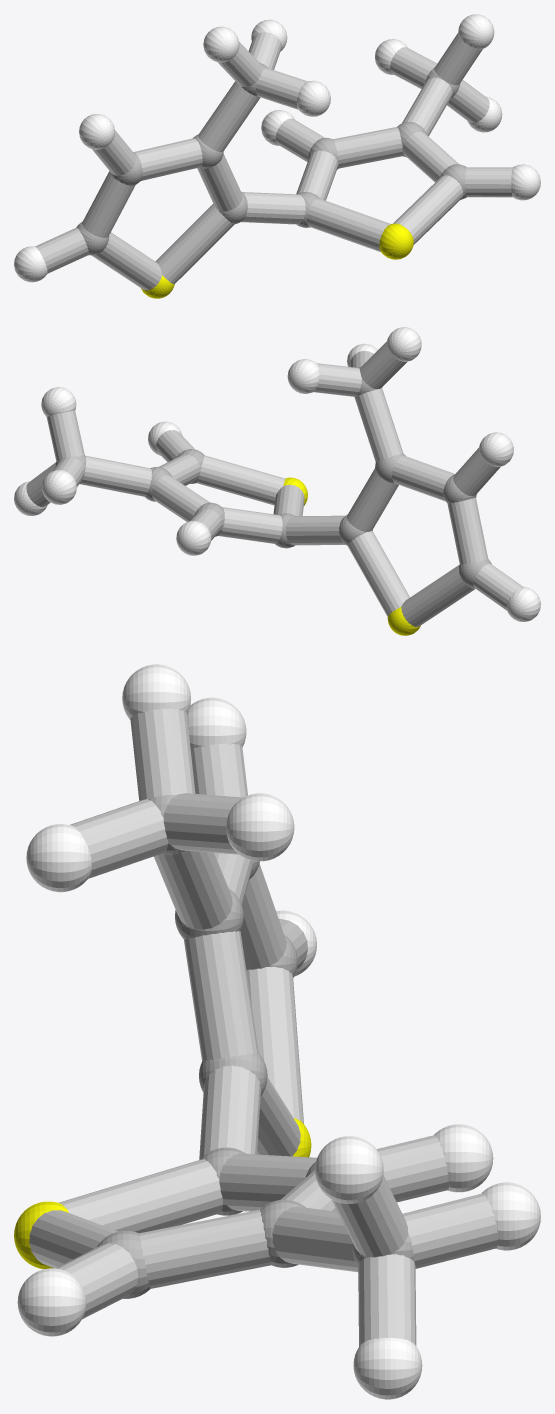
Rendered from Methylthiophene_Phi_25_Theta_90_Methylthiophene.glb.
3 renders of one model, top to bottom at view 1: azimuth 30°, elevation 25°; view 2: azimuth 150°, elevation 25°; view 3: azimuth 270°, elevation 25°, orthographic. The views are drawn at different scales.
Visible parts, largest first — view 1: grp7965, grp3621, grp1, grp7241; view 2: grp7965, grp3621, grp1, grp7241; view 3: grp7965, grp3621, grp1, grp7241.
Boxes of the visible parts, x1=… form: grp7965: x1=35, y1=32, x2=512, y2=290; grp3621: x1=14, y1=14, x2=540, y2=282; grp1: x1=76, y1=62, x2=466, y2=255; grp7241: x1=141, y1=223, x2=413, y2=298; grp7965: x1=26, y1=341, x2=523, y2=626; grp3621: x1=14, y1=327, x2=540, y2=621; grp1: x1=55, y1=366, x2=491, y2=588; grp7241: x1=283, y1=477, x2=420, y2=635; grp7965: x1=29, y1=708, x2=498, y2=1346; grp3621: x1=17, y1=664, x2=540, y2=1399; grp1: x1=97, y1=795, x2=413, y2=1298; grp7241: x1=14, y1=1118, x2=311, y2=1269.
Size of the model in its own units: 9.77 by 5.19 by 4.59.
